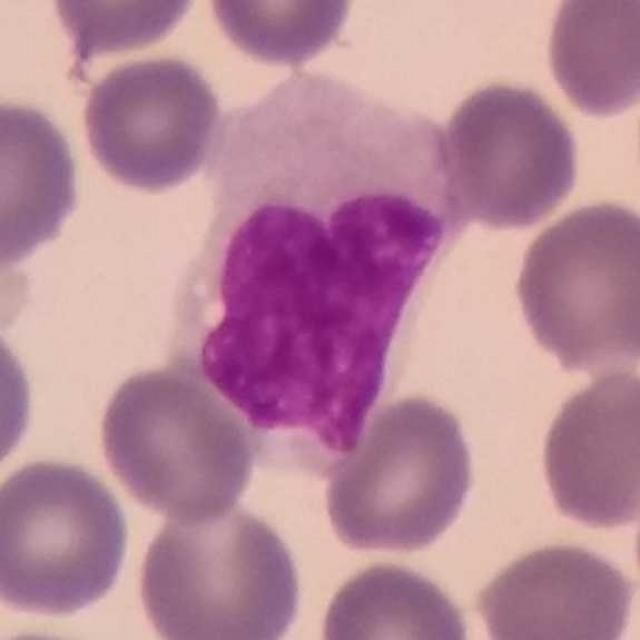mono: (168, 71, 468, 483)
